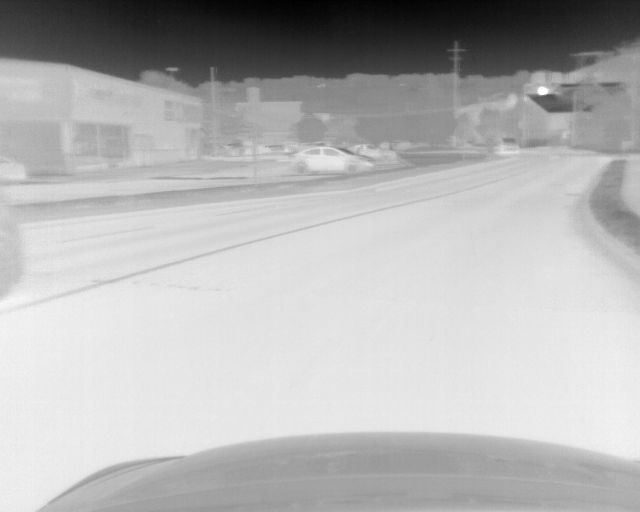car: (290, 146, 373, 174), (348, 142, 402, 174), (493, 136, 519, 155)
